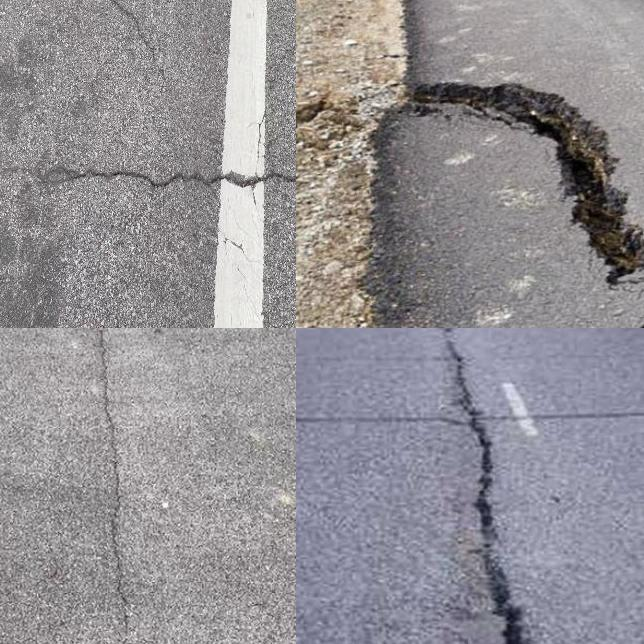Melintang: (0, 152, 296, 204)
Memanjang: (420, 328, 544, 644), (79, 328, 147, 644)
Pinggir: (335, 52, 644, 328)
